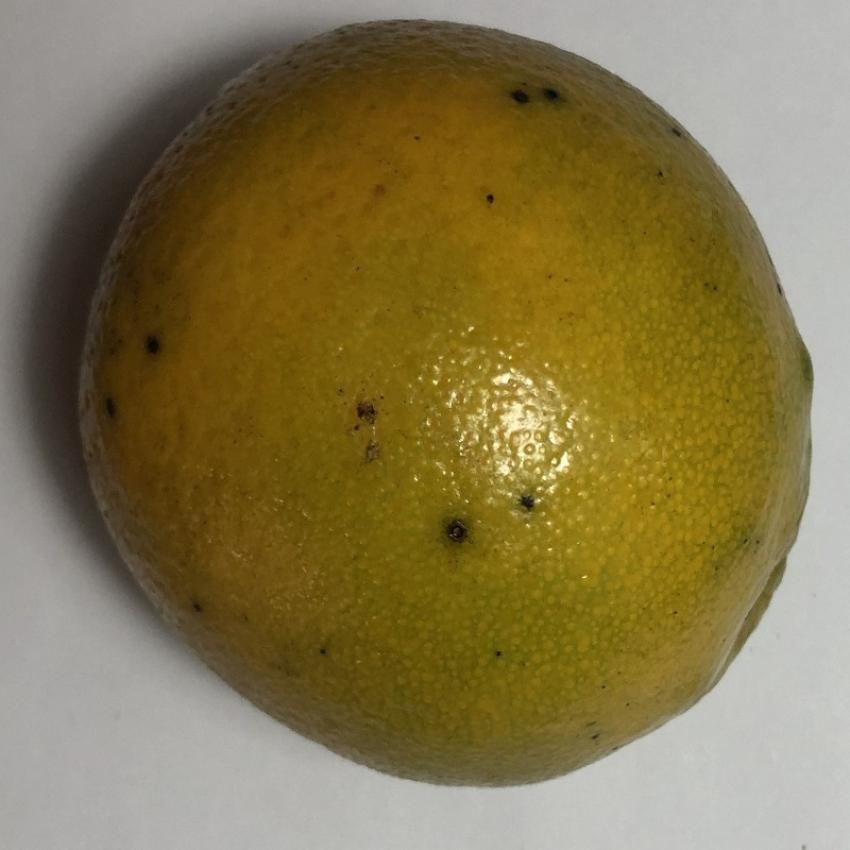Mal estado: (49, 16, 831, 796)
